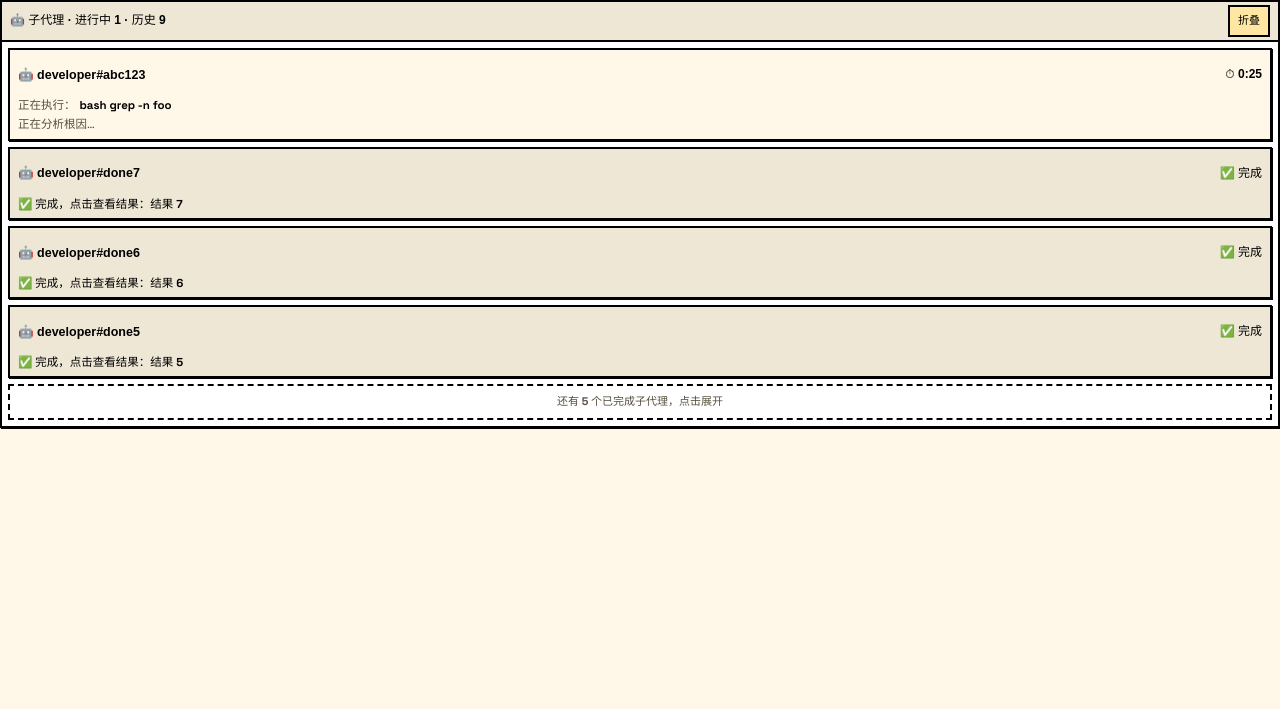
Test: SubAgentPanel 子代理活动面板 › 长会话收敛：进行中全显，已完成只留最近 3 个，其余进“点击展开”
Expected: the number of elements with class "subagent-card" is 4, top-left (8, 48), bottom-right (1272, 140); top-left (8, 146), bottom-right (1272, 220); top-left (8, 226), bottom-right (1272, 299); top-left (8, 305), bottom-right (1272, 378)
Click the button with class "subagent-more" at (640, 402), box top-left (8, 384), bottom-right (1272, 420)
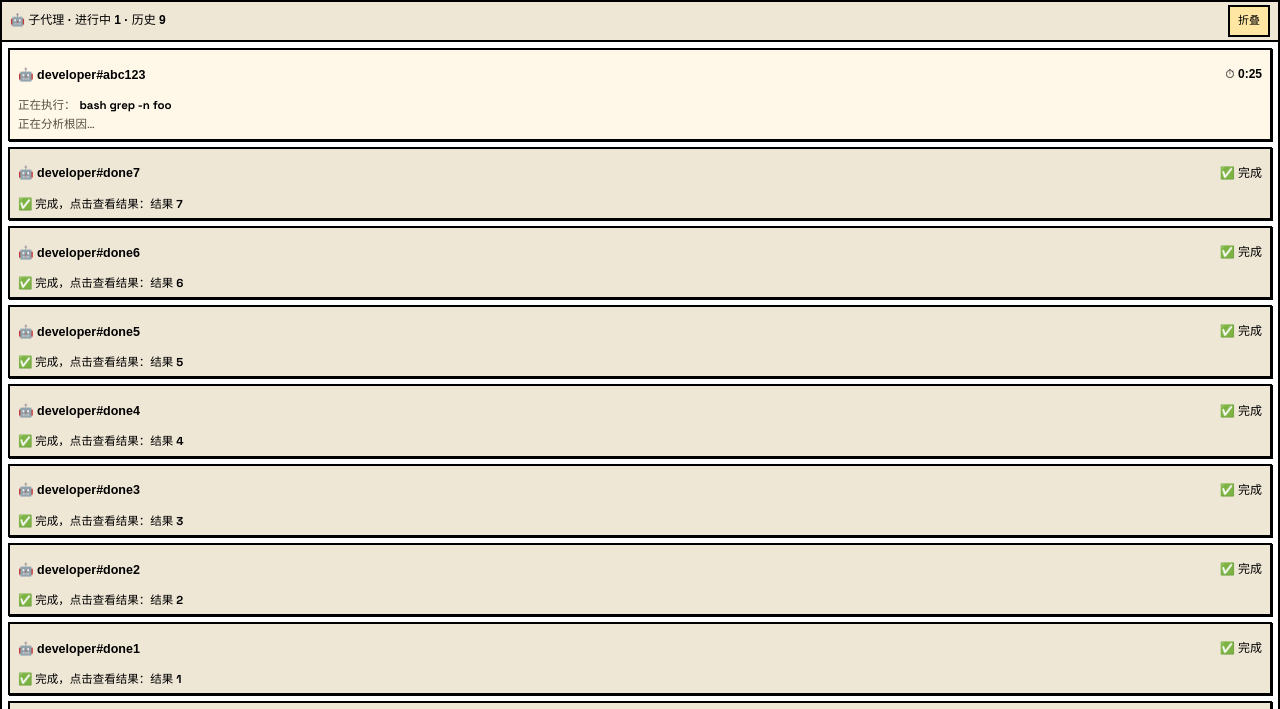
Expected: the number of elements with class "subagent-card" is 9
